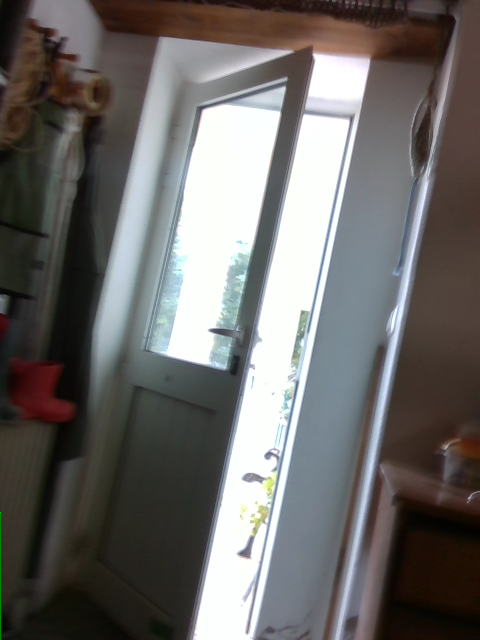semi: (58, 41, 370, 639)
